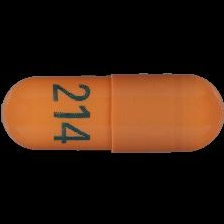61786-331: (0, 0, 224, 224)
